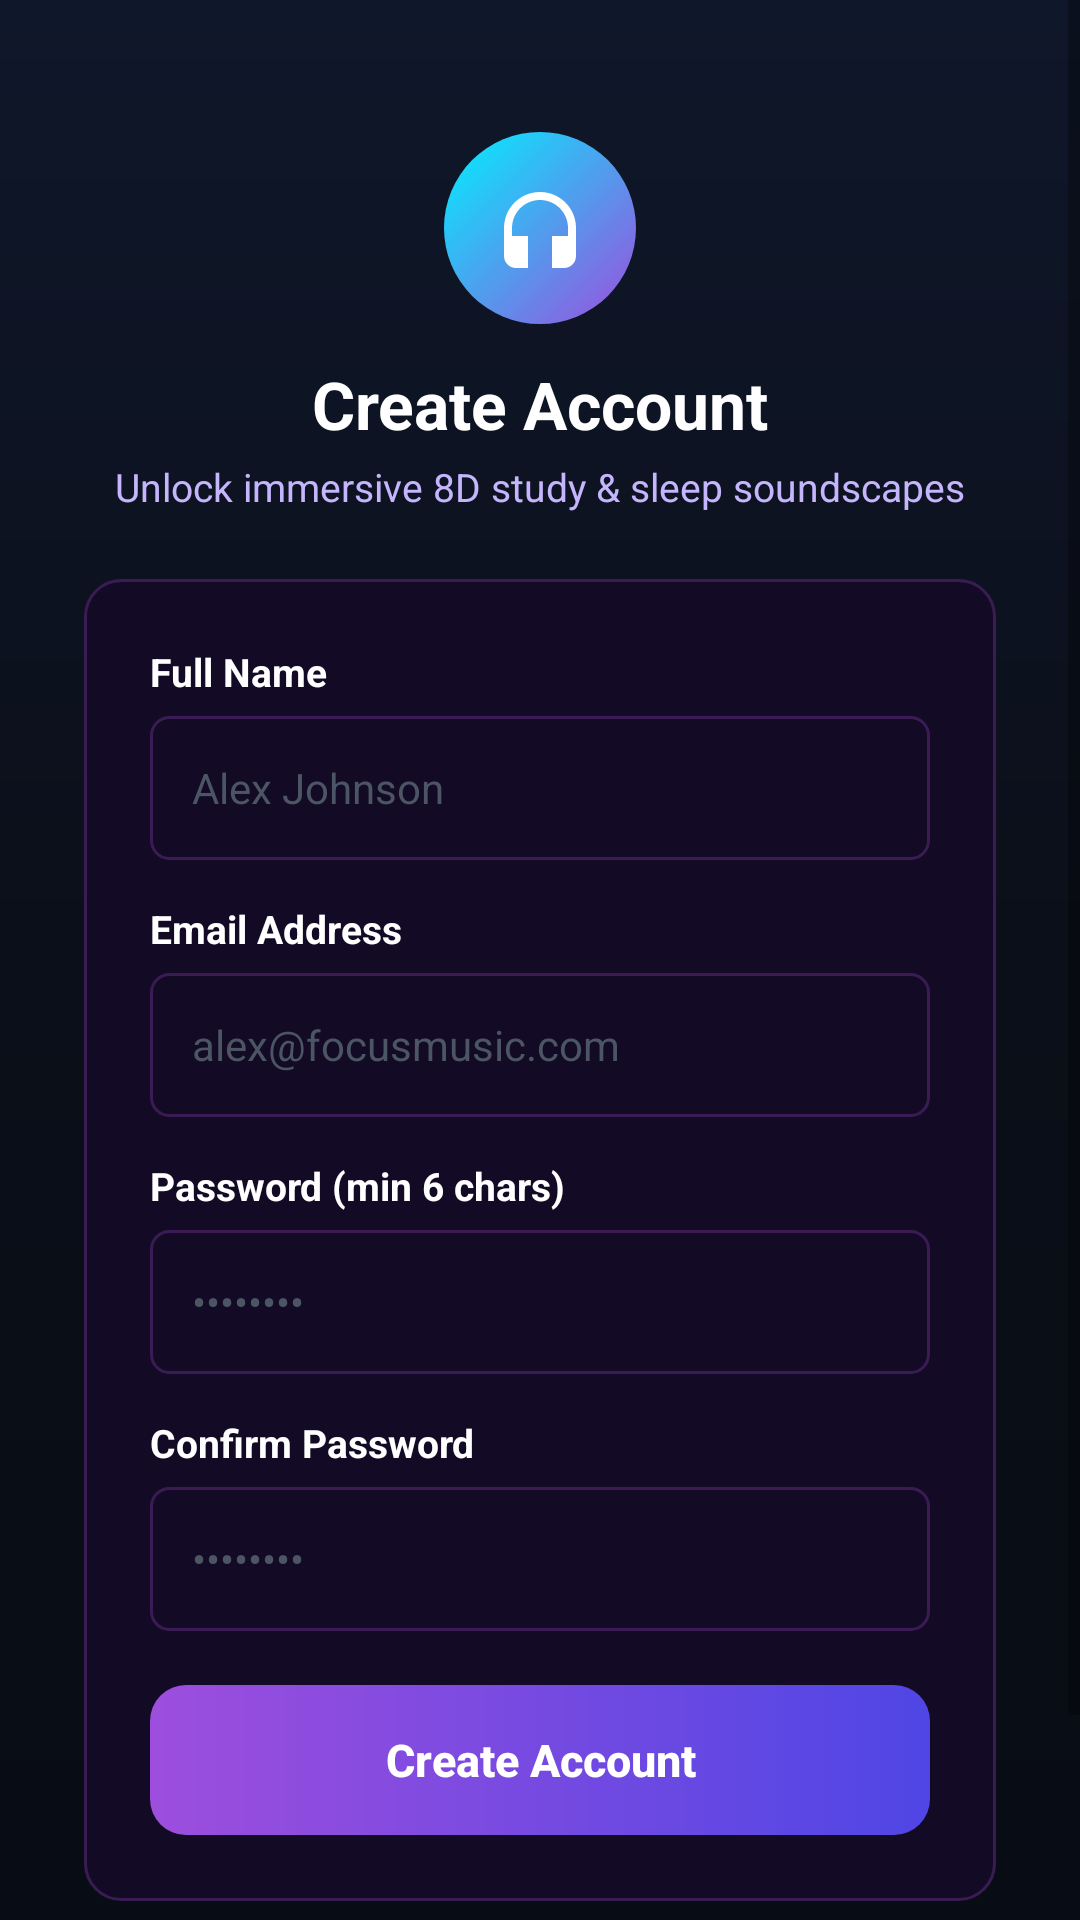

Named icons in this screenshot (1080 x 1920) and their centers, (x,y):
headphones: (540,228)
